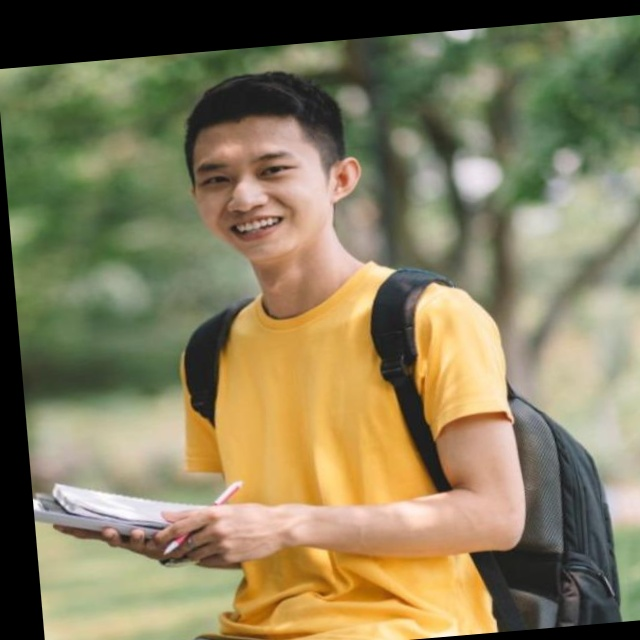Sin_Casco_Mascarrilla: (175, 64, 369, 272)
Sin_Chaleco: (173, 264, 515, 640)
